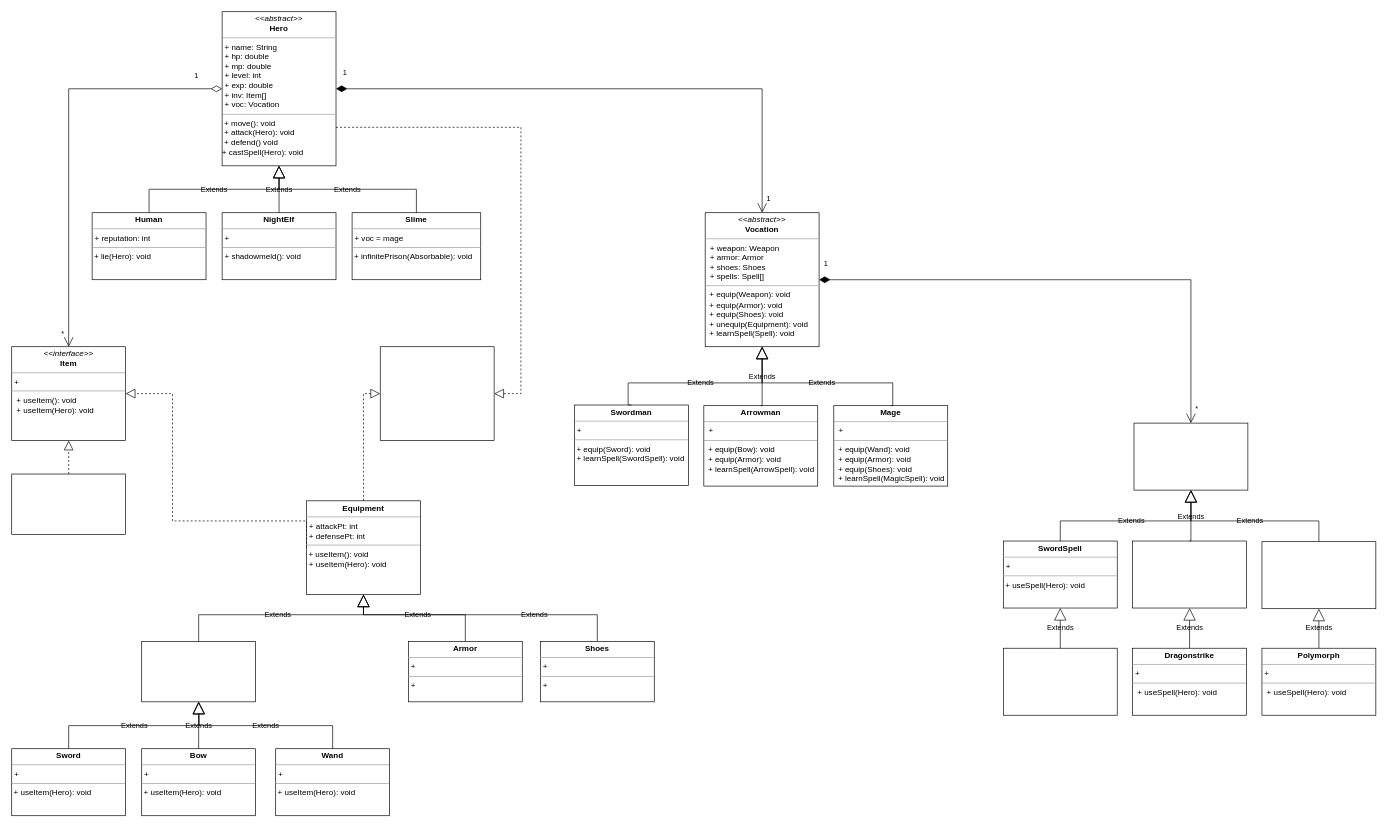
The diagram is 1388 pixels wide and 827 high, and some of its shapes have lost their labels. The shapes that lost their labels are listed below. From the top down, each one's centre as x and y in pixels, then its label:
pixel 437 393: <<interface>> Absorbable + +
pixel 1190 456: <<abstract>> Spell + + useSpell(Hero): void
pixel 68 503: Potion + + useItem(): void + useItem(Hero): void
pixel 1189 574: ArrowSpell + + useSpell(Hero): void
pixel 1318 575: MagicSpell + + useSpell(Hero): void
pixel 198 671: Weapon + + useItem(Hero): void
pixel 1060 681: Dionysian + remainingUses: int + useSpell(Hero): void
